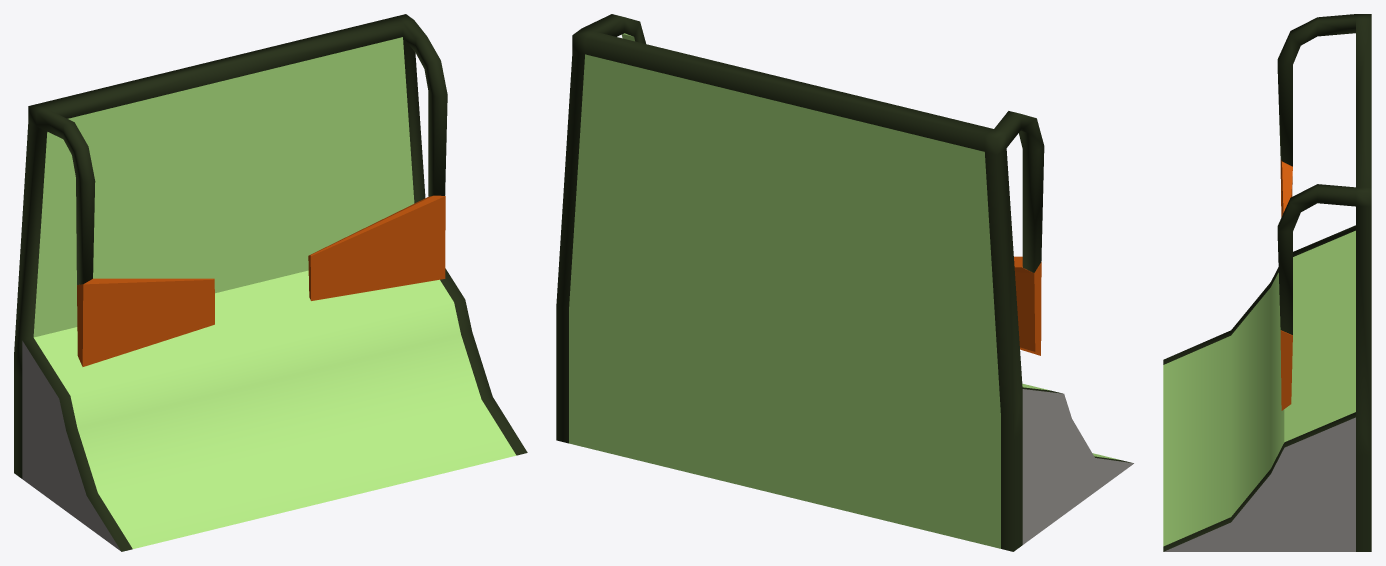
The model's file is Trap_woodThrower.fbx.
3 renders of one model, left to right at view 1: azimuth 30°, elevation 25°; view 2: azimuth 150°, elevation 25°; view 3: azimuth 270°, elevation 25°, orthographic. The views are drawn at different scales.
Visible parts, largest first — view 1: Wood_Stand, Stand_lid_right, Stand_lid_left; view 2: Wood_Stand, Stand_lid_right; view 3: Wood_Stand, Stand_lid_left, Stand_lid_right.
Boxes of the visible parts, x1,y1,x2,y2 form: Wood_Stand: (14,14,527,551); Stand_lid_right: (77,278,214,366); Stand_lid_left: (308,195,445,300); Wood_Stand: (556,14,1133,551); Stand_lid_right: (1014,256,1041,355); Wood_Stand: (1163,14,1371,551); Stand_lid_left: (1280,330,1292,410); Stand_lid_right: (1280,159,1292,217).
Size of the model in its own units: 5.65 by 4.83 by 2.59.
